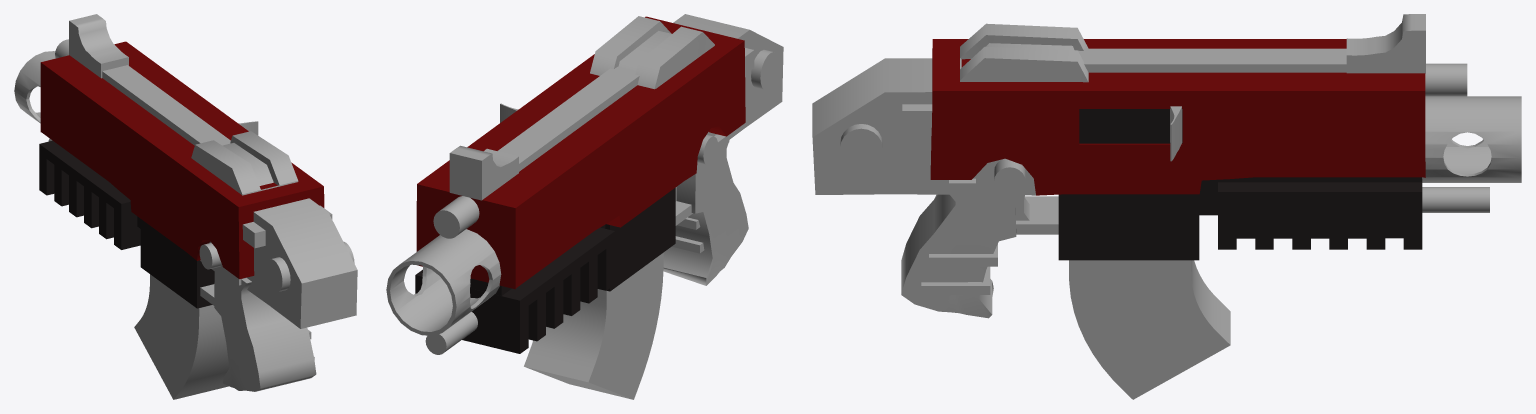
File: Bolter.fbx
3 renders of one model, left to right at view 1: azimuth 30°, elevation 25°; view 2: azimuth 150°, elevation 25°; view 3: azimuth 270°, elevation 25°, orthographic. The views are drawn at different scales.
Visible parts, largest first — view 1: polySurface96, polySurface75, polySurface89, polySurface85, polySurface82, polySurface86, polySurface80, polySurface87, polySurface88, polySurface95, polySurface76, polySurface77 (+1 smaller); view 2: polySurface96, polySurface85, polySurface82, polySurface95, polySurface89, polySurface86, polySurface87, polySurface80, polySurface88, polySurface75, polySurface83, polySurface84 (+3 smaller); view 3: polySurface96, polySurface85, polySurface75, polySurface82, polySurface80, polySurface89, polySurface95, polySurface86, polySurface87, polySurface88, polySurface97, polySurface81 (+9 smaller).
Part boxes in pixels (x1,y1,x2,y2): polySurface96: (40, 41, 324, 279); polySurface75: (247, 198, 357, 328); polySurface89: (214, 265, 316, 391); polySurface85: (134, 274, 229, 399); polySurface82: (39, 140, 140, 249); polySurface86: (191, 131, 298, 195); polySurface80: (140, 219, 214, 308); polySurface87: (102, 65, 230, 145); polySurface88: (69, 14, 128, 78); polySurface95: (14, 51, 55, 123); polySurface76: (265, 241, 354, 292); polySurface77: (242, 205, 332, 248); polySurface96: (416, 16, 745, 289); polySurface85: (524, 252, 663, 399); polySurface82: (415, 227, 614, 353); polySurface95: (386, 229, 501, 335); polySurface89: (663, 133, 748, 285); polySurface86: (590, 16, 714, 89); polySurface87: (497, 66, 639, 171); polySurface80: (605, 187, 675, 291); polySurface88: (449, 145, 518, 200); polySurface75: (673, 14, 783, 138); polySurface83: (433, 196, 479, 238); polySurface84: (425, 312, 477, 354); polySurface96: (930, 39, 1425, 195); polySurface85: (1069, 260, 1230, 399); polySurface75: (812, 58, 1035, 195); polySurface82: (1218, 179, 1422, 249); polySurface80: (1058, 194, 1199, 260); polySurface89: (901, 194, 1016, 318); polySurface95: (1422, 96, 1521, 182); polySurface86: (960, 23, 1088, 82); polySurface87: (1078, 48, 1346, 72); polySurface88: (1346, 14, 1425, 73); polySurface97: (1079, 109, 1182, 143); polySurface81: (1199, 177, 1421, 215).
Size of the model in its own units: 2.11 by 4.95 by 8.83.
